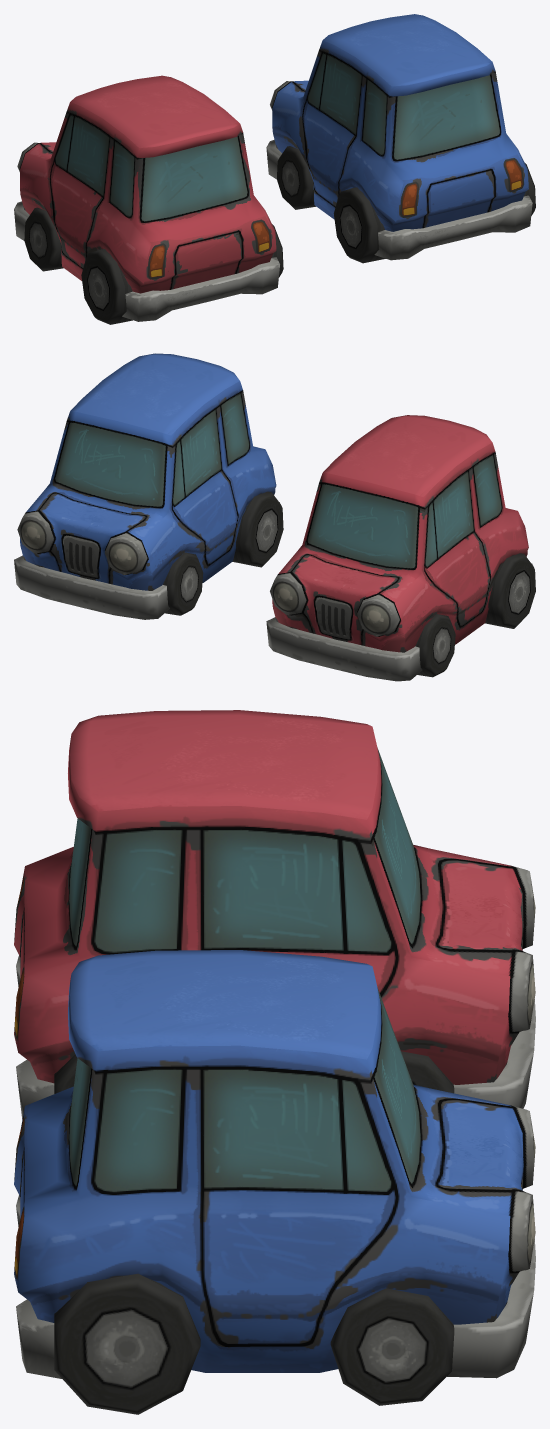
File: Cars.glb
3 renders of one model, top to bottom at view 1: azimuth 30°, elevation 25°; view 2: azimuth 150°, elevation 25°; view 3: azimuth 270°, elevation 25°, orthographic. The views are drawn at different scales.
Visible parts, largest first — view 1: Car_B, Car_A; view 2: Car_A, Car_B; view 3: Car_A, Car_B.
Part boxes in pixels (x1,y1,x2,y2): Car_B: (14,75,283,324); Car_A: (266,14,535,263); Car_A: (14,353,283,619); Car_B: (266,415,535,681); Car_A: (14,950,535,1414); Car_B: (14,710,535,1119).
Size of what is drawn, in the model's own units: 5.03 by 2.05 by 2.76.
Materials: 1 (1 with a texture image).
